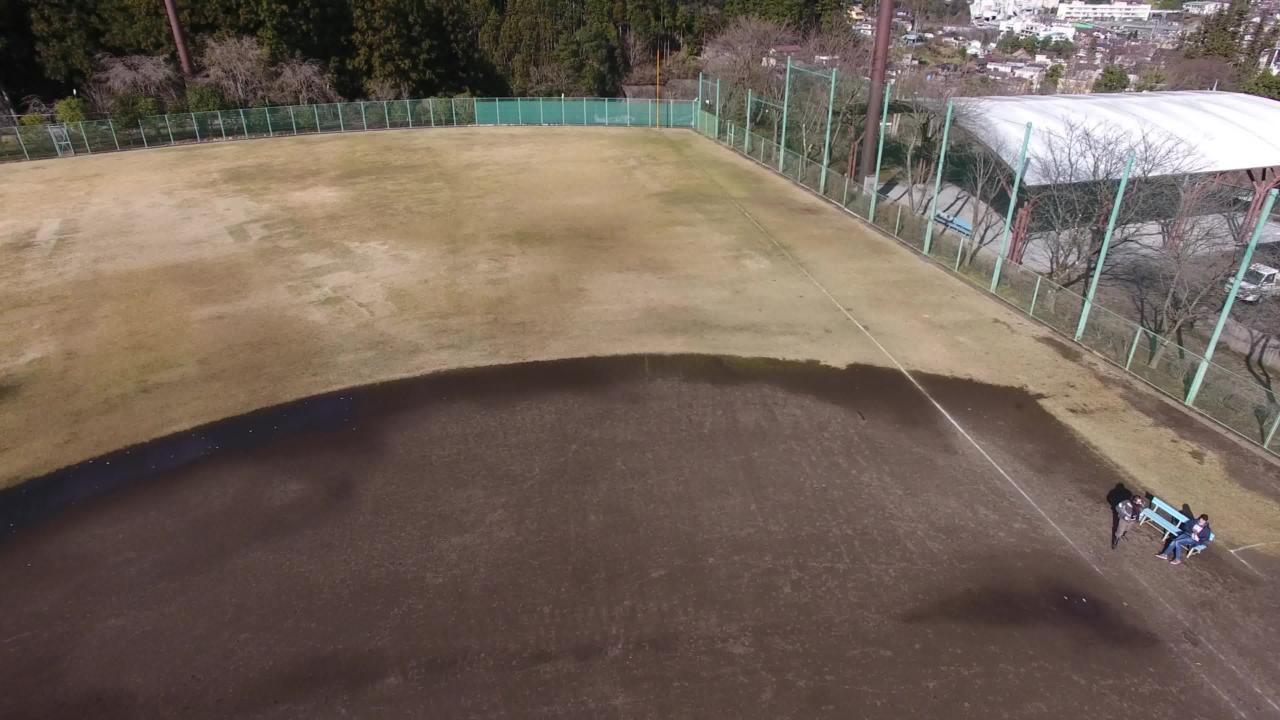bench: (928, 210, 983, 243)
car: (1224, 244, 1280, 319)
person: (1103, 492, 1150, 565), (1166, 513, 1213, 586)
